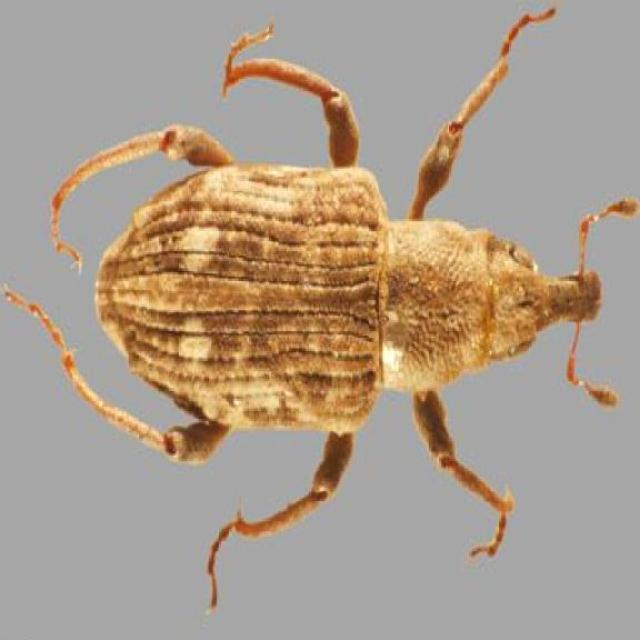ricebug: (7, 8, 640, 607)
